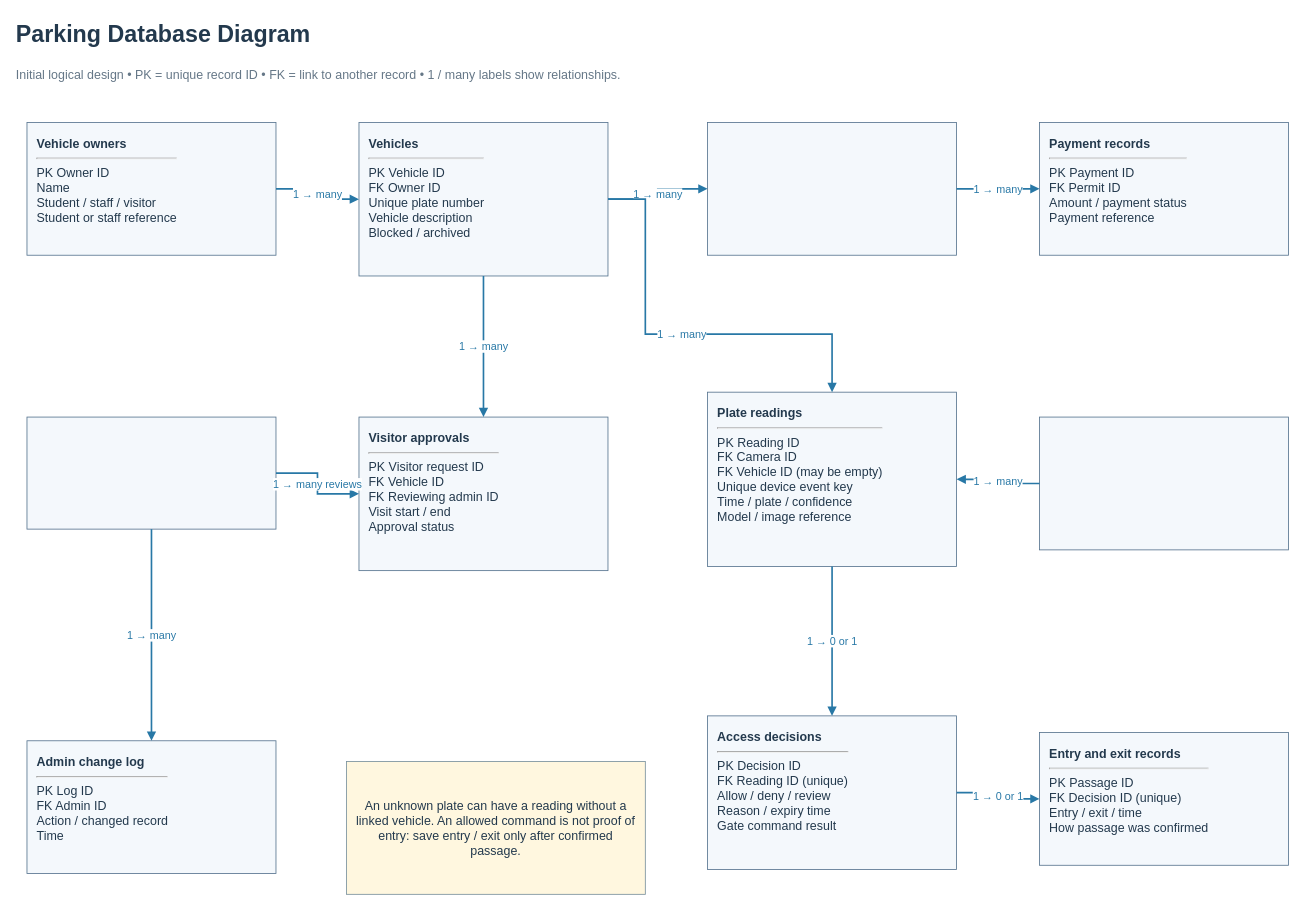
This 1315x909 diagram has some shape labels left out. Each missing label, with the centre of its shape:
"Admin users PK Admin ID Email / password hash Role / active status" goes at (x=151, y=472).
"Cameras PK Camera ID Gate name Entry / exit direction Enabled" goes at (x=1164, y=483).
"Parking permits PK Permit ID FK Vehicle ID Start date / end date Permit status" goes at (x=832, y=188).
